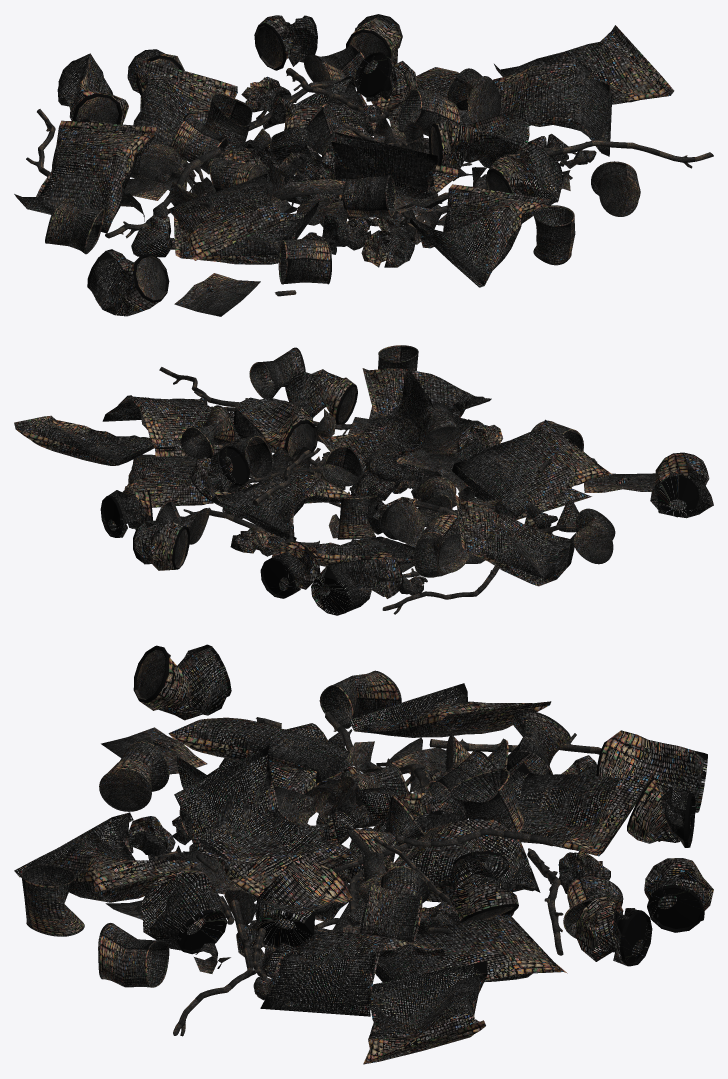
File: TRASH.fbx
3 views of the same model, one above another, from view 1: azimuth 30°, elevation 25°; view 2: azimuth 150°, elevation 25°; view 3: azimuth 270°, elevation 25° (orthographic). The views are drawn at different scales.
Visible parts, largest first — view 1: Object001; view 2: Object001; view 3: Object001.
Boxes of the visible parts, x1,y1,x2,y2 form: Object001: [14, 14, 713, 316]; Object001: [14, 345, 713, 615]; Object001: [14, 644, 713, 1064].
Bounding box in the file's own units: 128 × 16.72 × 99.51.
Materials: 1 (1 with a texture image).
